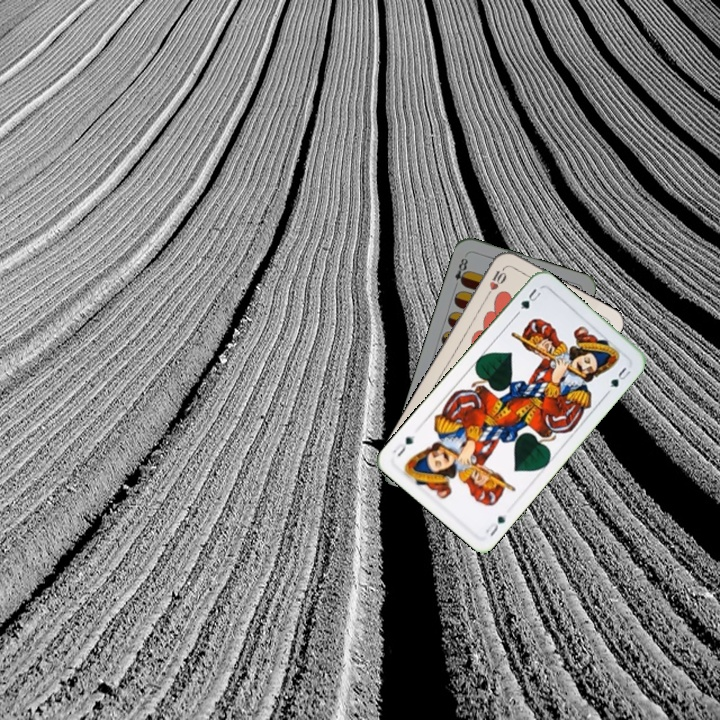E8: (450, 251, 471, 291)
GU: (481, 510, 509, 539), (516, 284, 544, 312)
H10: (482, 263, 509, 299)
